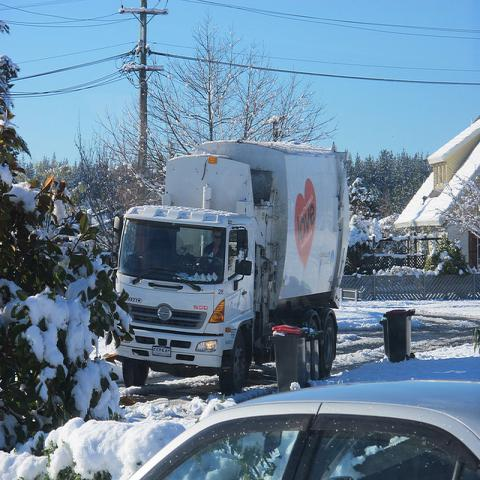car: (125, 380, 479, 479)
truck: (113, 142, 350, 397)
